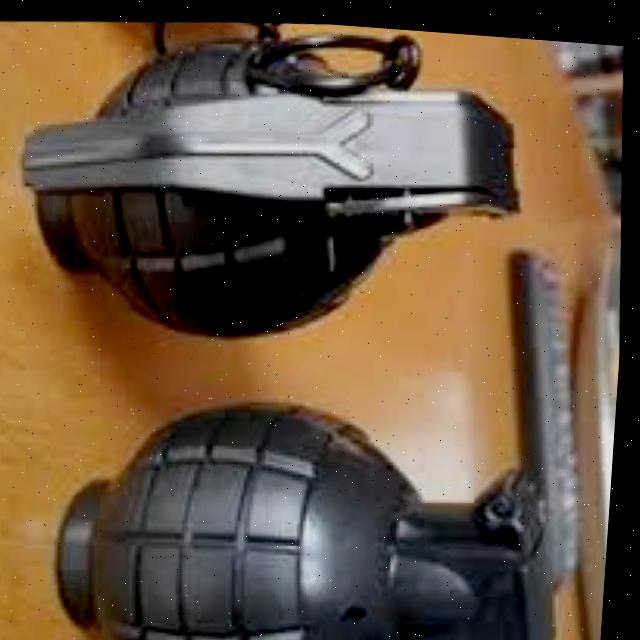grenade: (58, 363, 570, 640)
